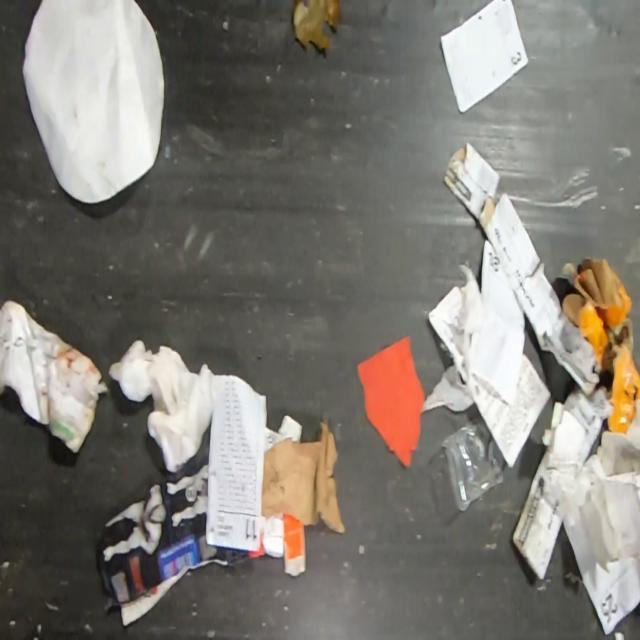cardboard: (561, 256, 640, 434), (260, 420, 346, 534)
rigid_plastic: (443, 412, 504, 511)
